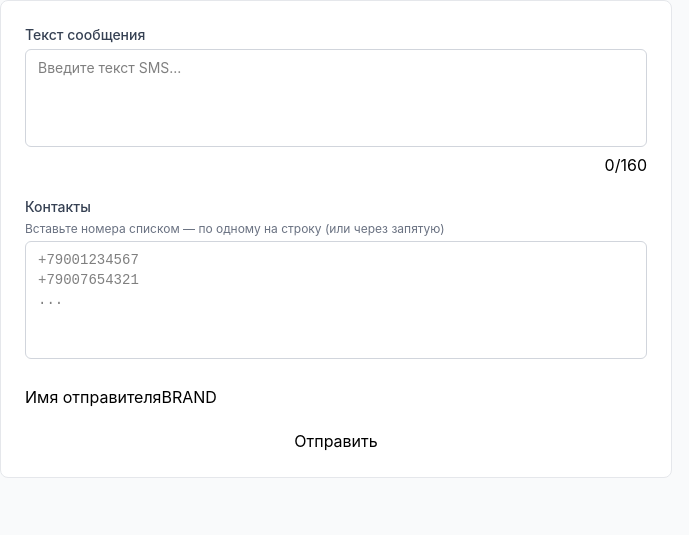
Test: QuickSendPage (US1 — Send Single SMS) › requires contacts before sending
Check: the field labelled "Имя отправителя" is shown, box [162,385,410,409]
Type "Hello" into the text box labelled "Текст сообщения" at (336, 98), box [25,49,647,147]
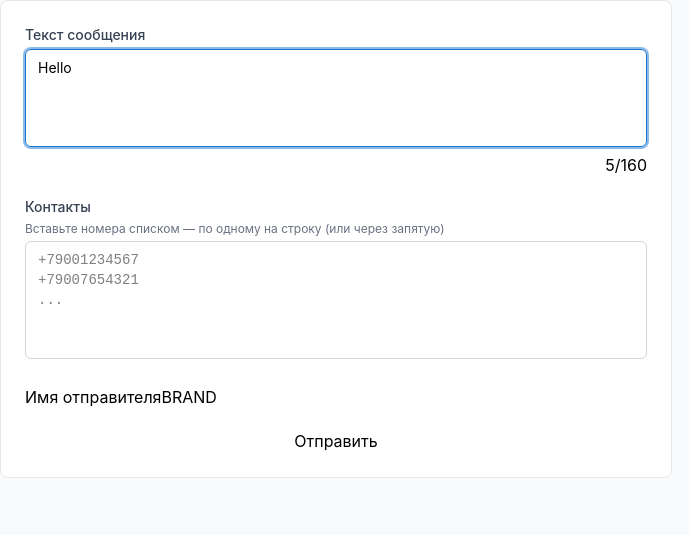
Click the button "Отправить" at (336, 441), box [25,429,647,453]
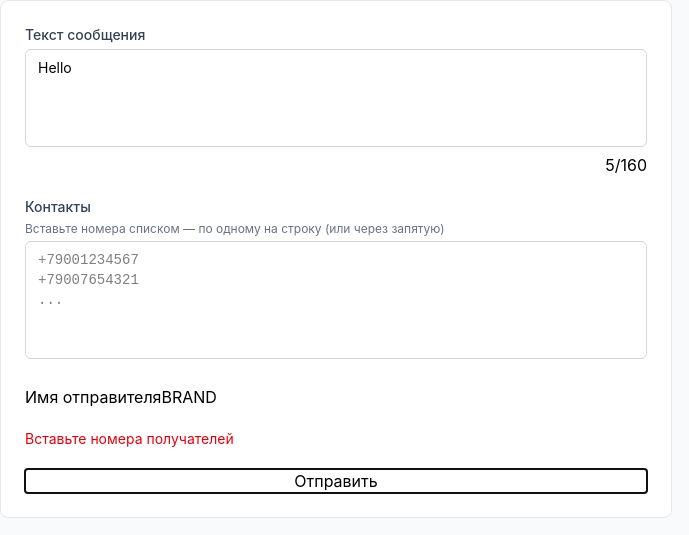
Check: the message shows "Вставьте номера", box [25,430,234,447]
